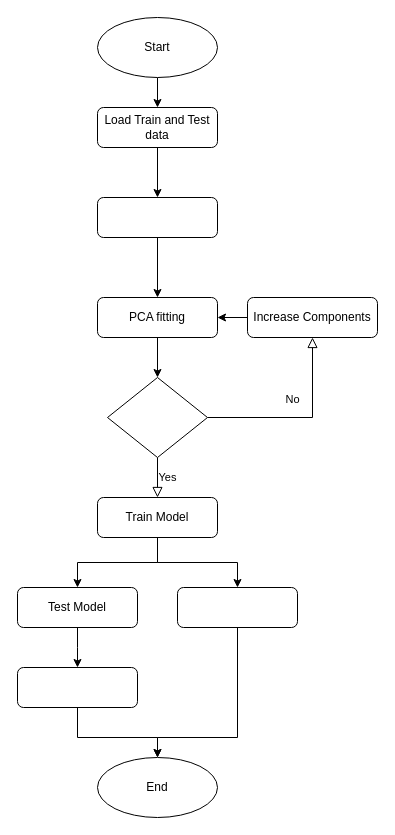
The diagram is 395 pixels wide and 835 high, and some of its shapes have lost their labels. The shapes that lost their labels are listed below. From the top down, each one's centre as x and y in pixels, then its label:
the point at 157,217: Preprocess images
the point at 157,417: PCA capture 90% Variance
the point at 237,607: Show Eye/Lip Colour
the point at 77,687: Save Predictions
